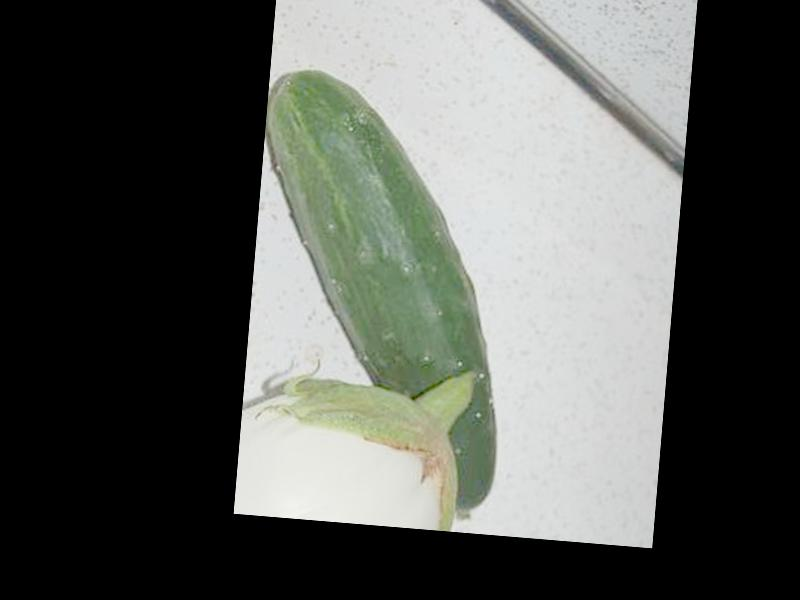Cucumber: (234, 67, 525, 522)
